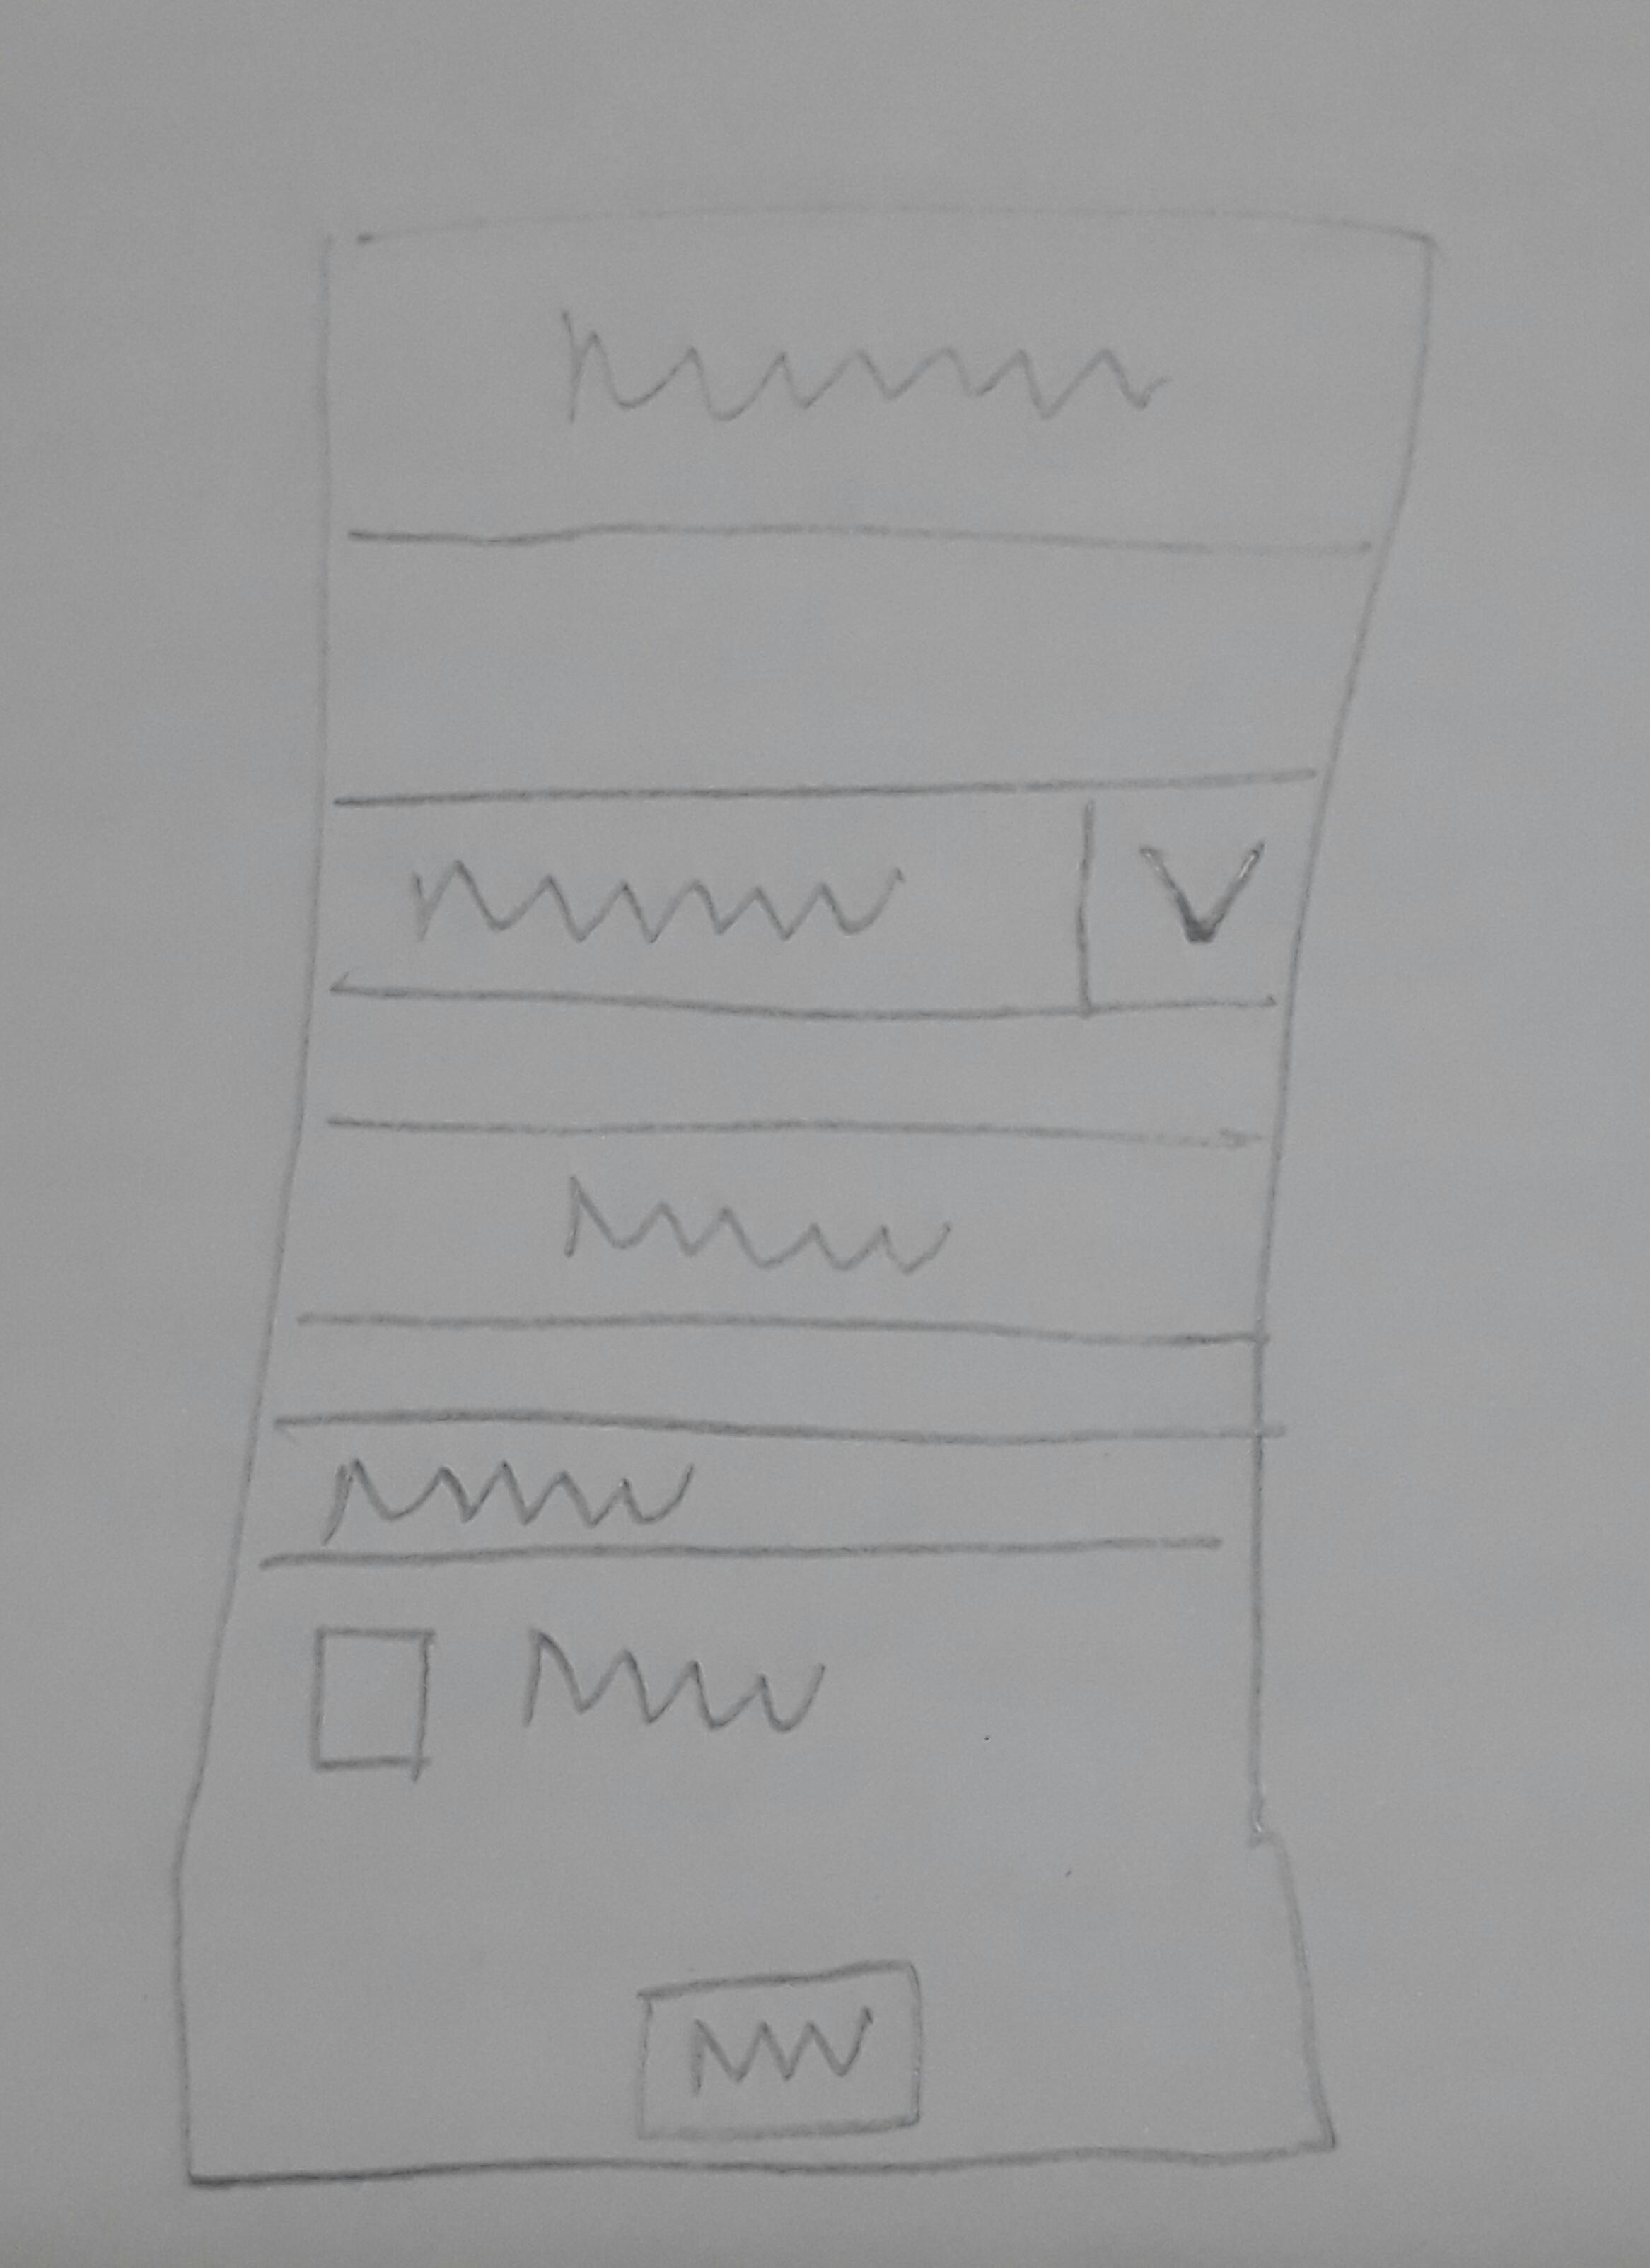Button: (289, 1111, 1270, 1340), (634, 1958, 924, 2145)
CheckBox: (305, 1616, 843, 1789)
Label: (549, 308, 1171, 426)
ListPicker: (306, 768, 1331, 1021)
Screen: (174, 202, 1432, 2194)
TextBox: (248, 1417, 1268, 1555)
